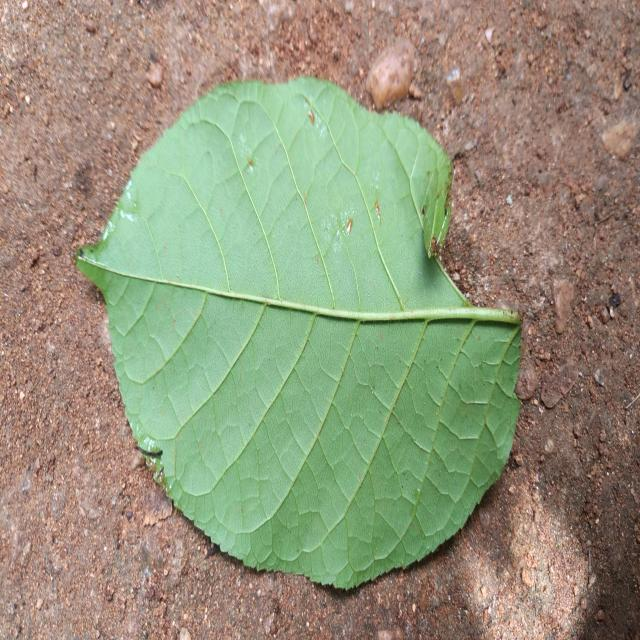padri: (76, 78, 521, 589)
